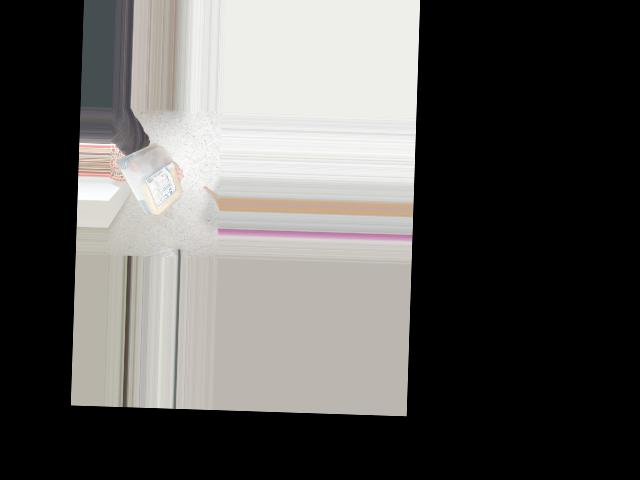cheese: (110, 138, 189, 220)
